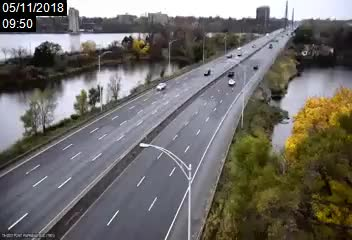personal_car: (156, 82, 166, 91), (227, 70, 235, 79), (228, 78, 236, 86), (203, 68, 210, 75)
